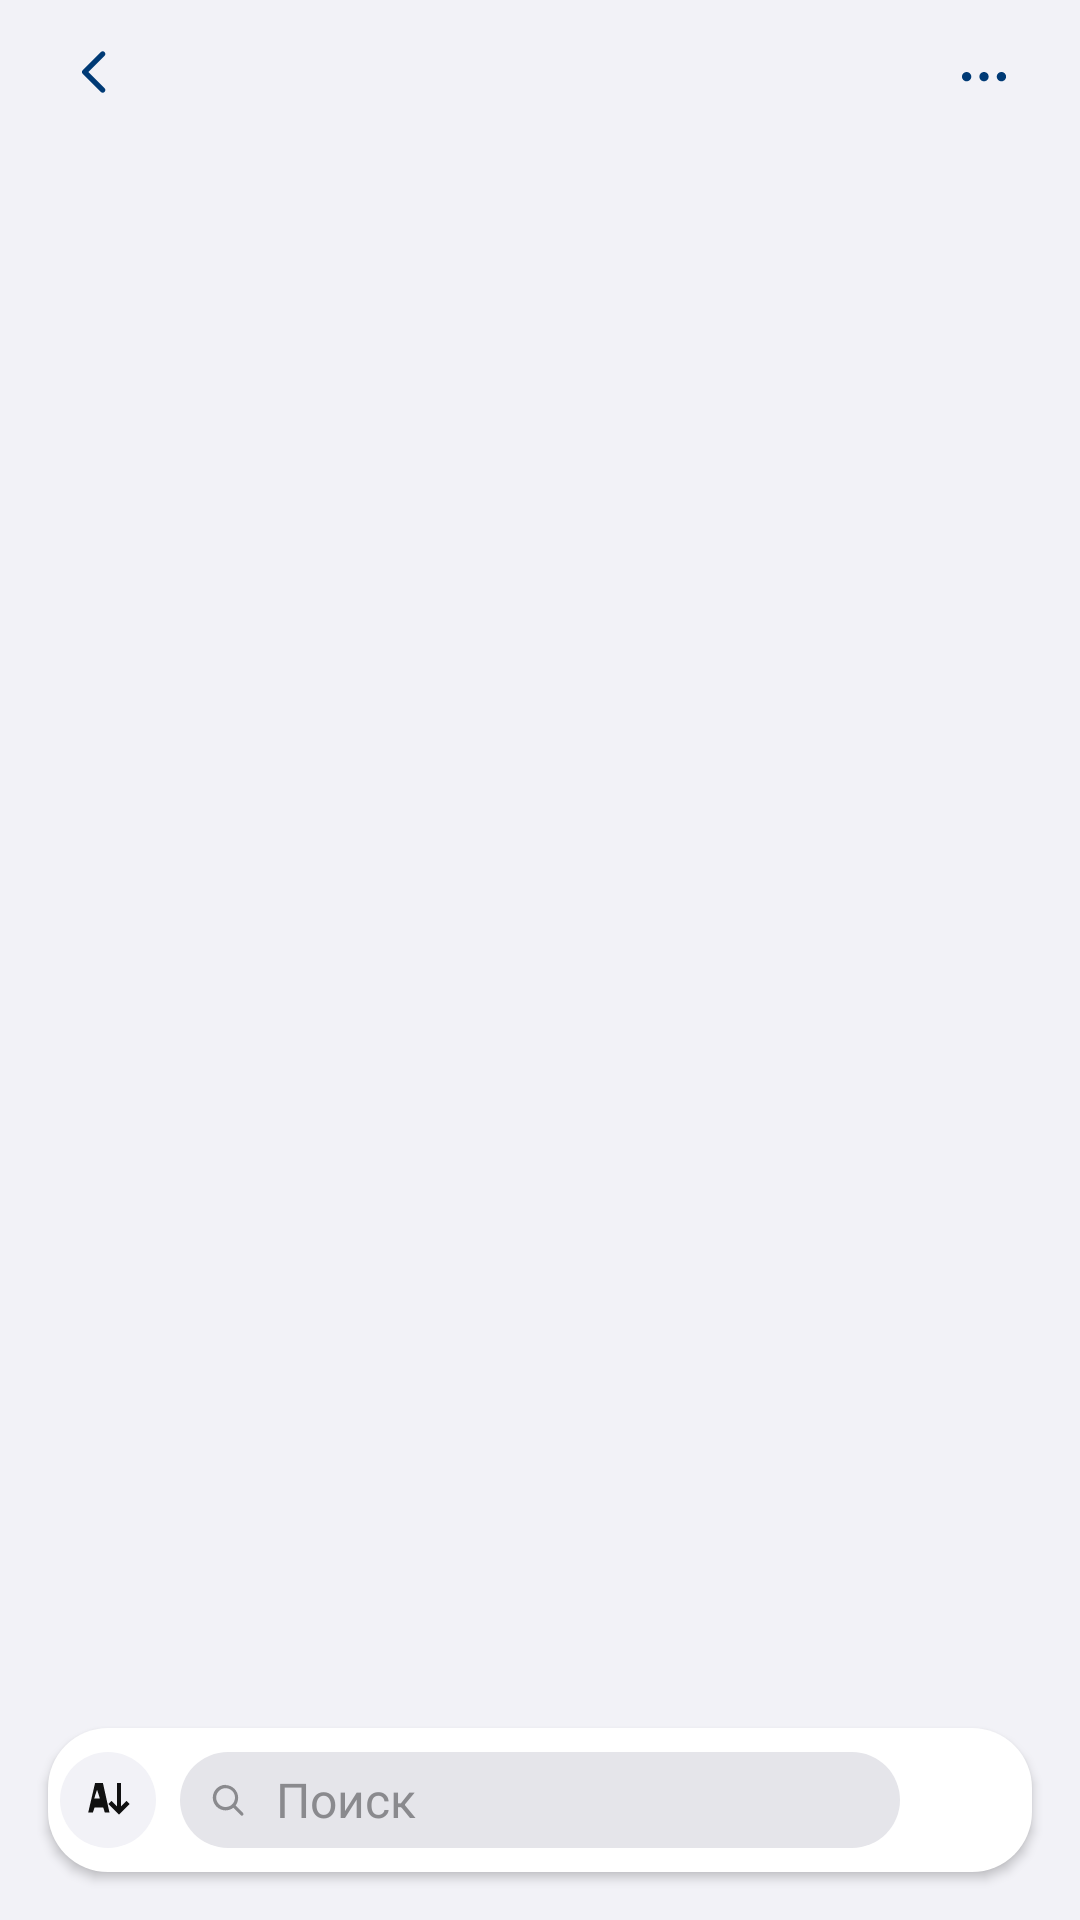

Named icons in this screenshot (1080 × 1920) and their bounding boxes, (x1, y1, x2, y2):
back: (82, 51, 106, 93)
search: (213, 1785, 244, 1816)
А → Я: (60, 1752, 156, 1848)
